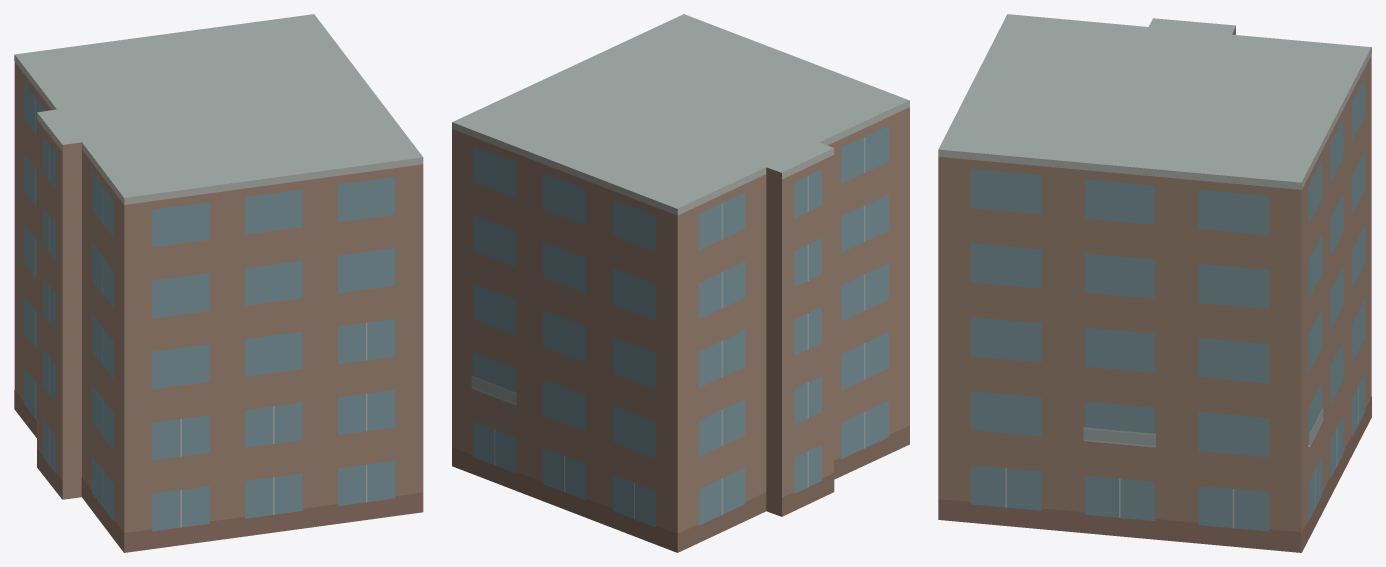
File: survey-upis-33030025.glb
The picture shows the model from 3 angles, left to right: view 1: azimuth 30°, elevation 25°; view 2: azimuth 150°, elevation 25°; view 3: azimuth 270°, elevation 25°; orthographic projection. The views are drawn at different scales.
Parts seen in each view (by area): view 1: survey-upis-33030025.tmp; view 2: survey-upis-33030025.tmp; view 3: survey-upis-33030025.tmp.
Boxes of the visible parts, bbox=[...] form: survey-upis-33030025.tmp: bbox=[14, 14, 423, 552]; survey-upis-33030025.tmp: bbox=[452, 14, 909, 552]; survey-upis-33030025.tmp: bbox=[938, 14, 1371, 552].
Size of the model in its own units: 12.22 by 12.5 by 13.27.
